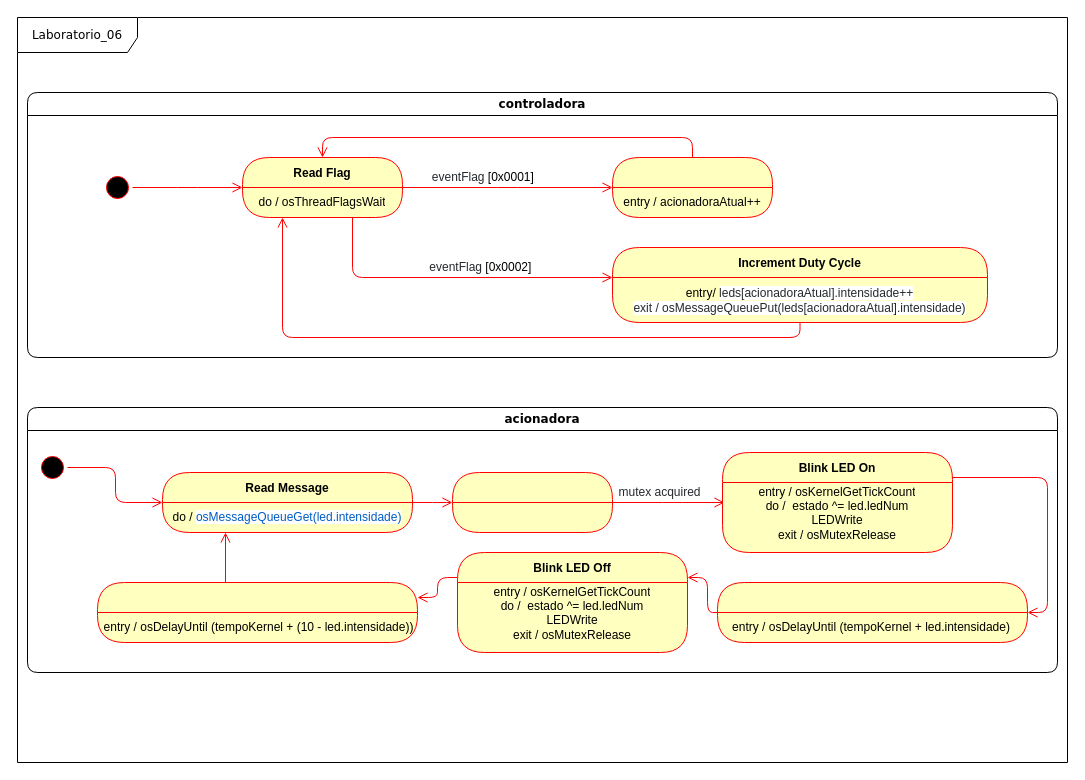
The diagram is 1085 pixels wide and 780 high, and some of its shapes have lost their labels. Each missing label, with the box of its shape:
Acquire Mutex: (452, 472, 612, 532)
Change Active LED: (612, 156, 772, 218)
Delay LED Off: (96, 582, 418, 642)
Delay LED On: (716, 582, 1028, 642)
